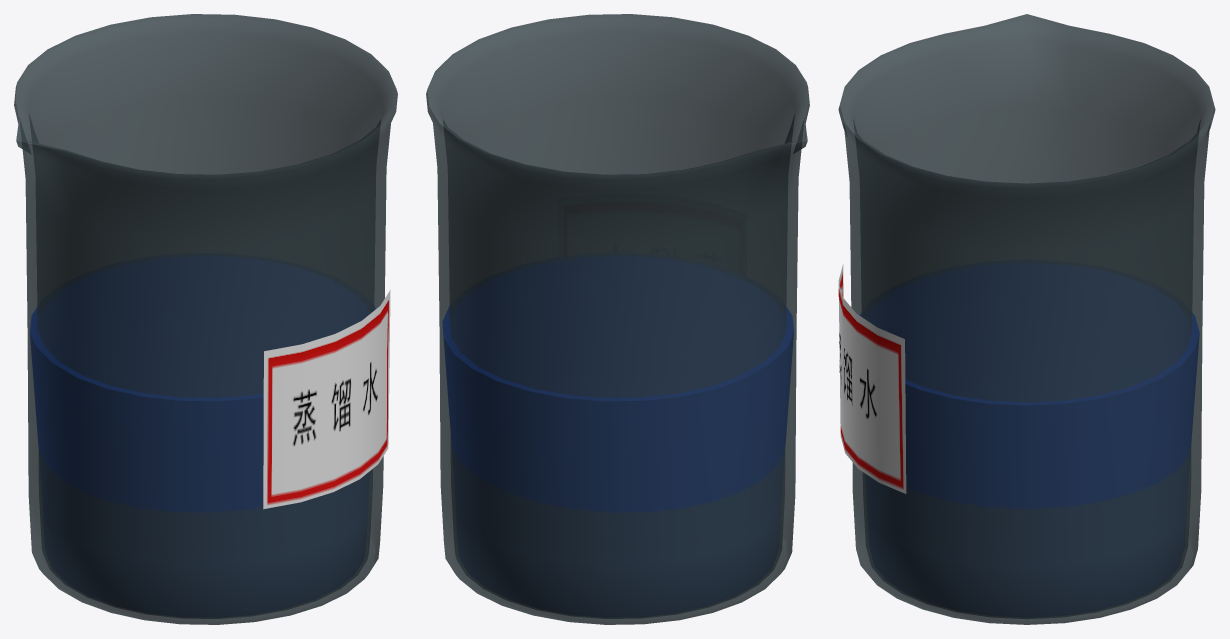
File: SM_蒸馏水烧杯.FBX
The picture shows the model from 3 angles, left to right: view 1: azimuth 30°, elevation 25°; view 2: azimuth 150°, elevation 25°; view 3: azimuth 270°, elevation 25°; orthographic projection.
Parts seen in each view (by area): view 1: SM_蒸馏水烧杯; view 2: SM_蒸馏水烧杯; view 3: SM_蒸馏水烧杯.
Boxes of the visible parts, x1,y1,x2,y2 form: SM_蒸馏水烧杯: [14, 14, 397, 624]; SM_蒸馏水烧杯: [426, 14, 809, 624]; SM_蒸馏水烧杯: [838, 14, 1215, 624].
Size of the model in its own units: 61.7 by 76 by 57.68.
